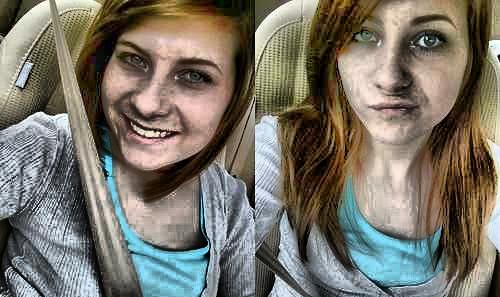seatbelt: (33, 22, 138, 266)
